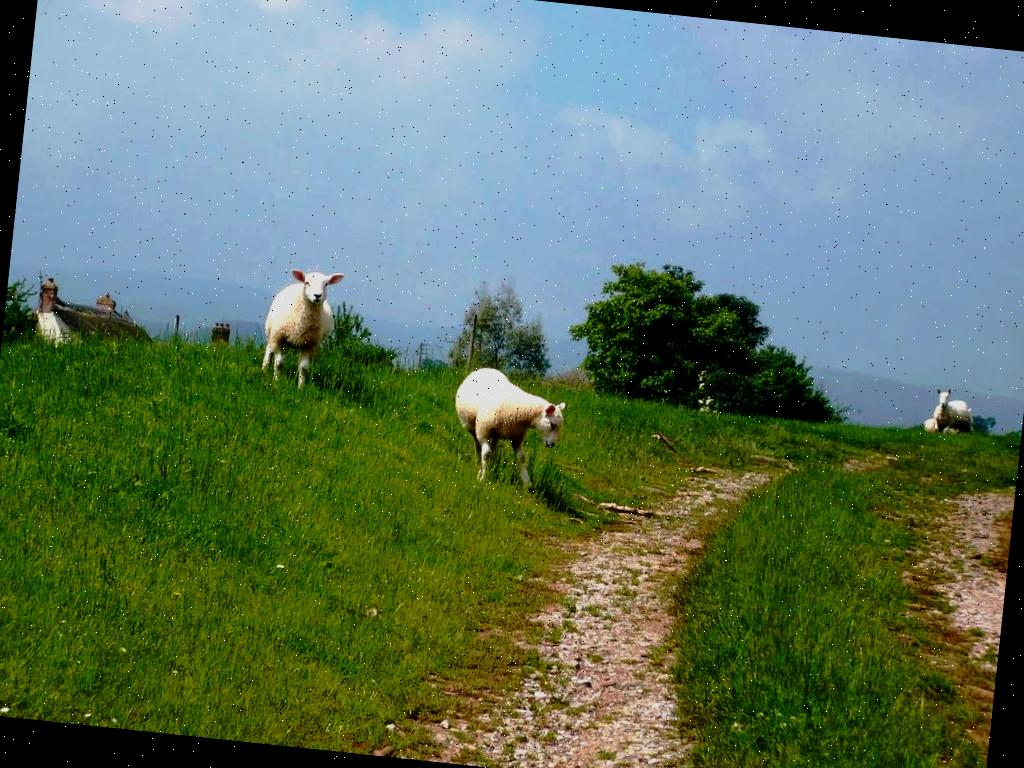Sheep: (444, 366, 570, 500), (257, 263, 343, 392)
